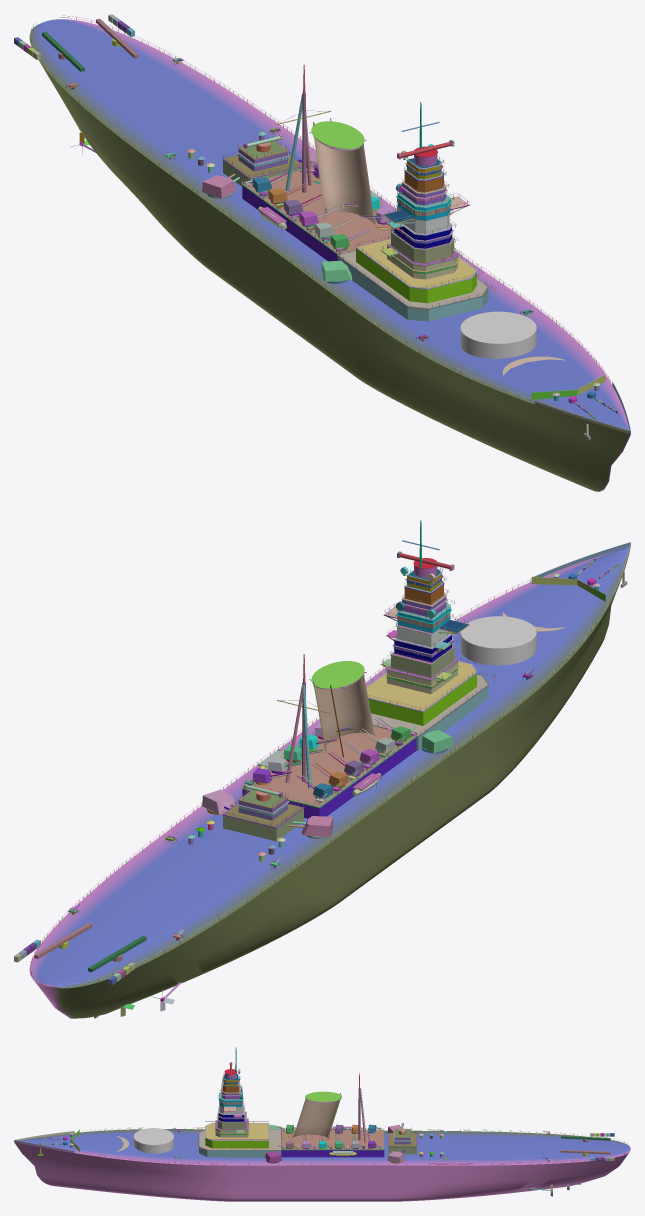
3 renders of one model, top to bottom at view 1: azimuth 30°, elevation 25°; view 2: azimuth 150°, elevation 25°; view 3: azimuth 270°, elevation 25°, orthographic. The views are drawn at different scales.
Visible parts, largest first — view 1: hull; view 2: hull; view 3: hull.
Part boxes in pixels (x1,y1,x2,y2): hull: (14,14,630,491); hull: (14,520,630,1018); hull: (14,1047,630,1201).
Size of what is drawn, in the model's own units: 41.25 by 74.63 by 300.
